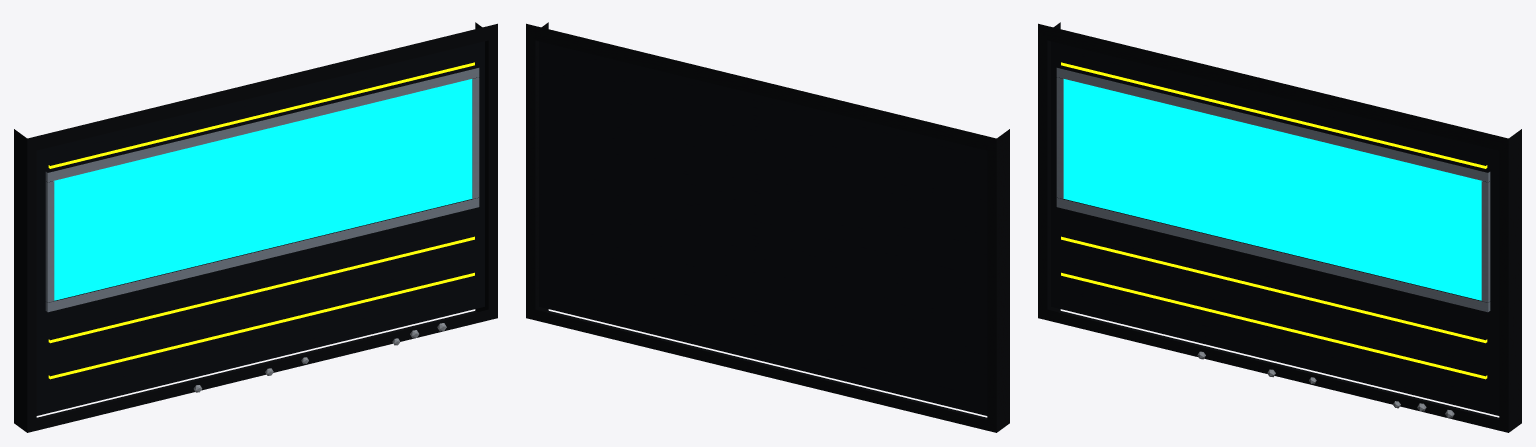
The model's file is v4_river_backdrop.glb.
3 renders of one model, left to right at view 1: azimuth 30°, elevation 25°; view 2: azimuth 150°, elevation 25°; view 3: azimuth 330°, elevation 25°, orthographic.
Parts seen in each view (by area): view 1: Wall_Core, Screen_Band, Wall_Frame, Screen_Bezel, River_LED; view 2: Wall_Core, Wall_Frame; view 3: Wall_Core, Screen_Band, Wall_Frame, Screen_Bezel, River_LED.
Part boxes in pixels (<box>): Wall_Core: <box>36,41,484,415</box>; Screen_Band: <box>53,79,472,300</box>; Wall_Frame: <box>14,22,497,432</box>; Screen_Bezel: <box>45,68,479,312</box>; River_LED: <box>48,62,474,379</box>; Wall_Core: <box>539,41,987,415</box>; Wall_Frame: <box>526,22,1009,432</box>; Wall_Core: <box>1051,41,1499,415</box>; Screen_Band: <box>1063,79,1482,300</box>; Wall_Frame: <box>1038,22,1521,432</box>; Screen_Bezel: <box>1056,68,1490,312</box>; River_LED: <box>1061,62,1487,379</box>.
Size of what is drawn, in the model's own units: 4.1 by 2.45 by 0.3035.
Materials: 6 (3 with a texture image).
